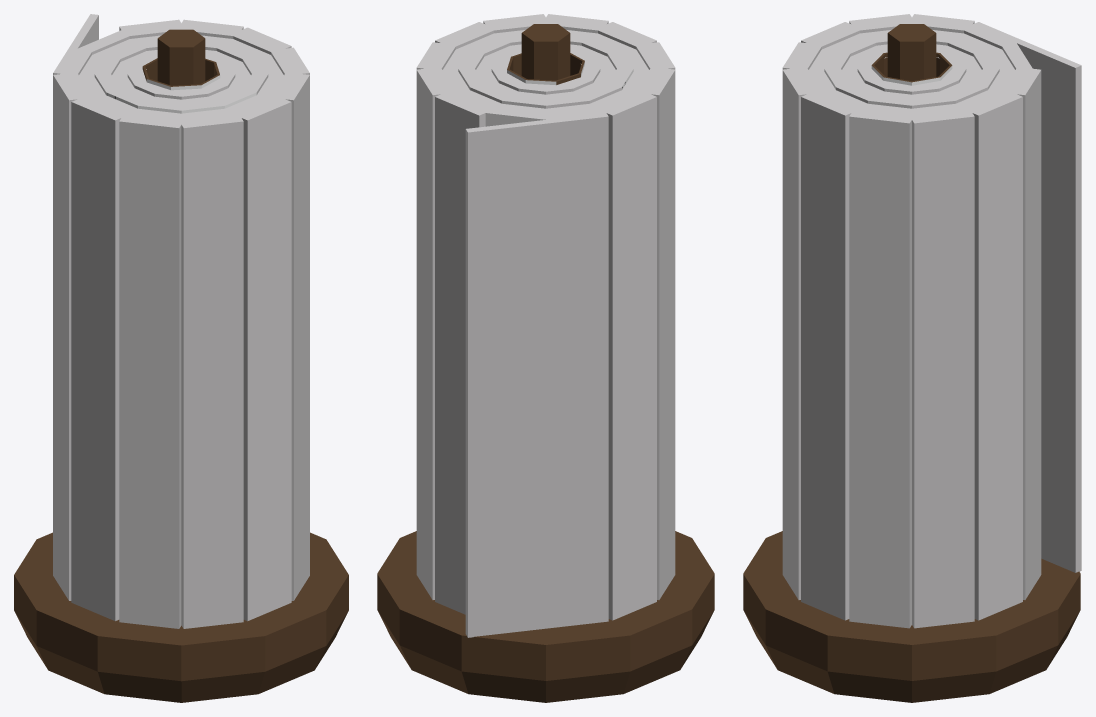
File: pecete.fbx
3 renders of one model, left to right at view 1: azimuth 30°, elevation 25°; view 2: azimuth 150°, elevation 25°; view 3: azimuth 270°, elevation 25°, orthographic.
Parts seen in each view (by area): view 1: pecete2; view 2: pecete2; view 3: pecete2.
Boxes of the visible parts, x1,y1,x2,y2 form: pecete2: [14, 14, 348, 702]; pecete2: [377, 14, 714, 702]; pecete2: [743, 14, 1081, 702].
Size of the model in its own units: 50.33 by 99.46 by 50.48.
1 material, 1 textured.
